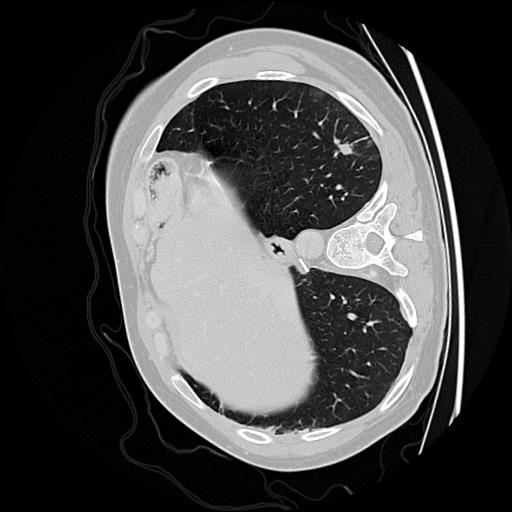nodule: (336, 141, 355, 160)
